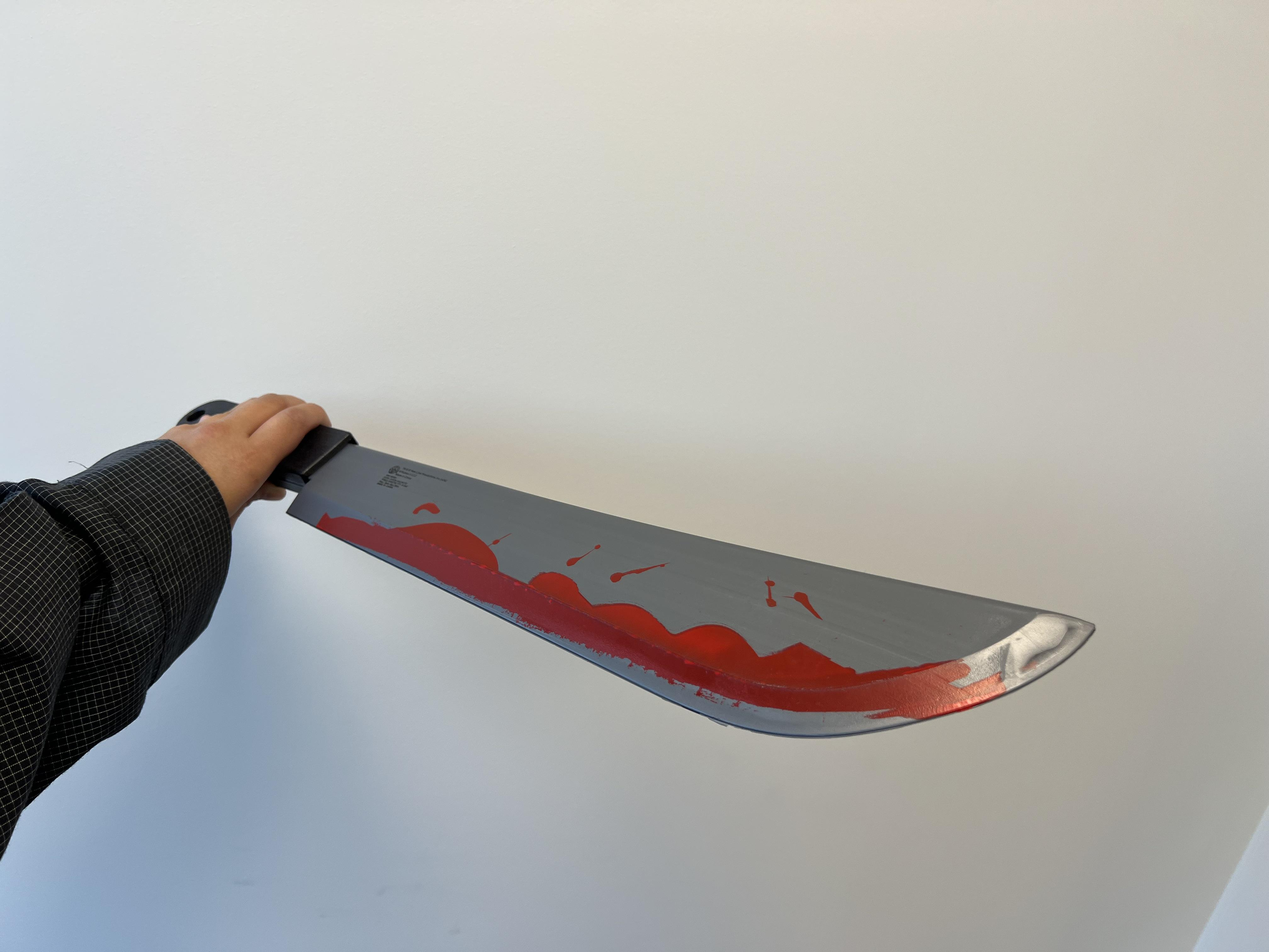Knife: (289, 426, 1096, 742), (0, 392, 330, 859), (177, 395, 334, 506)
